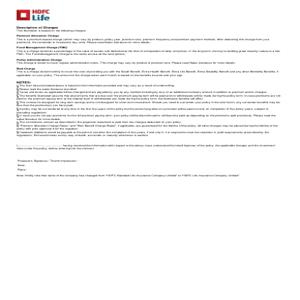image: (14, 8, 54, 22)
text: (15, 79, 283, 139), (15, 157, 239, 179), (14, 44, 282, 56), (15, 66, 282, 78), (15, 33, 271, 44), (14, 143, 277, 151), (16, 57, 237, 66), (14, 24, 88, 33)
